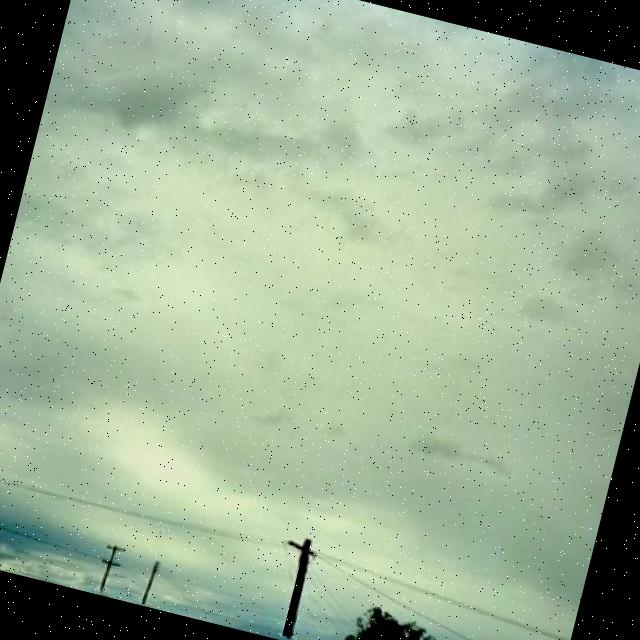Ns: (1, 1, 640, 522)
